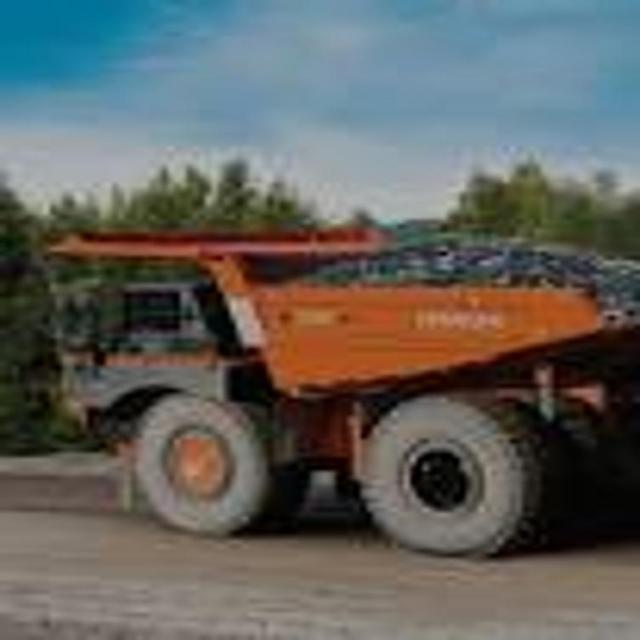dump_truck: (42, 195, 640, 558)
